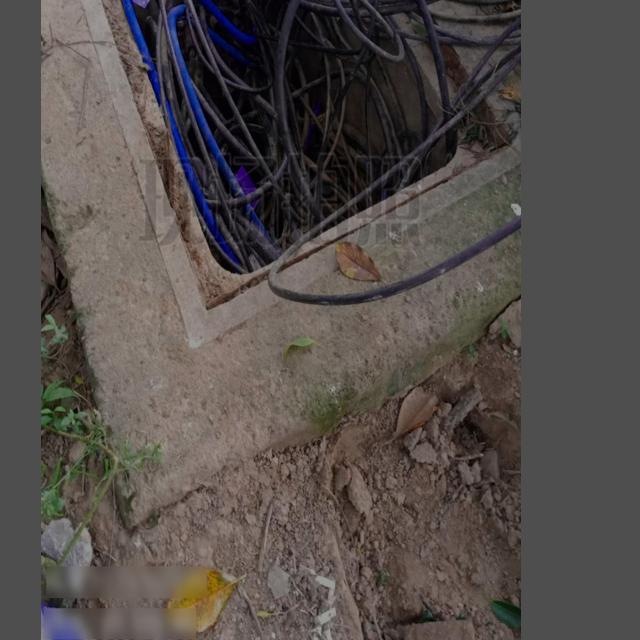lose: (56, 0, 521, 344)
